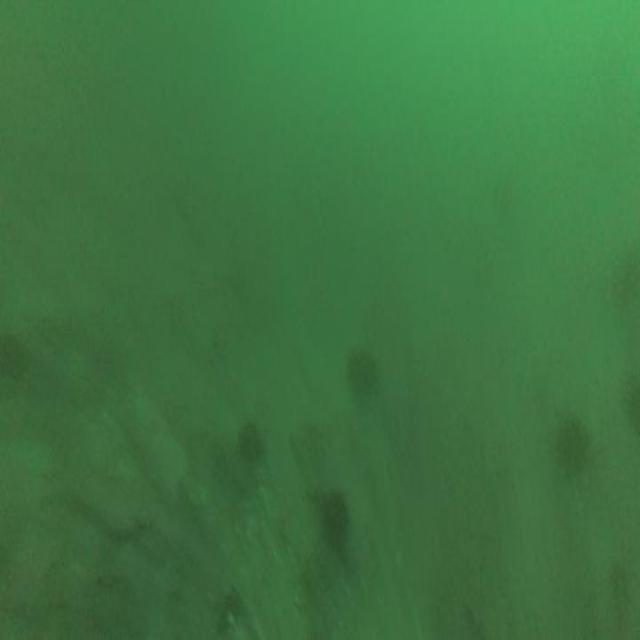echinus: (554, 411, 590, 490), (342, 343, 378, 409), (318, 484, 349, 560), (234, 408, 265, 472)
